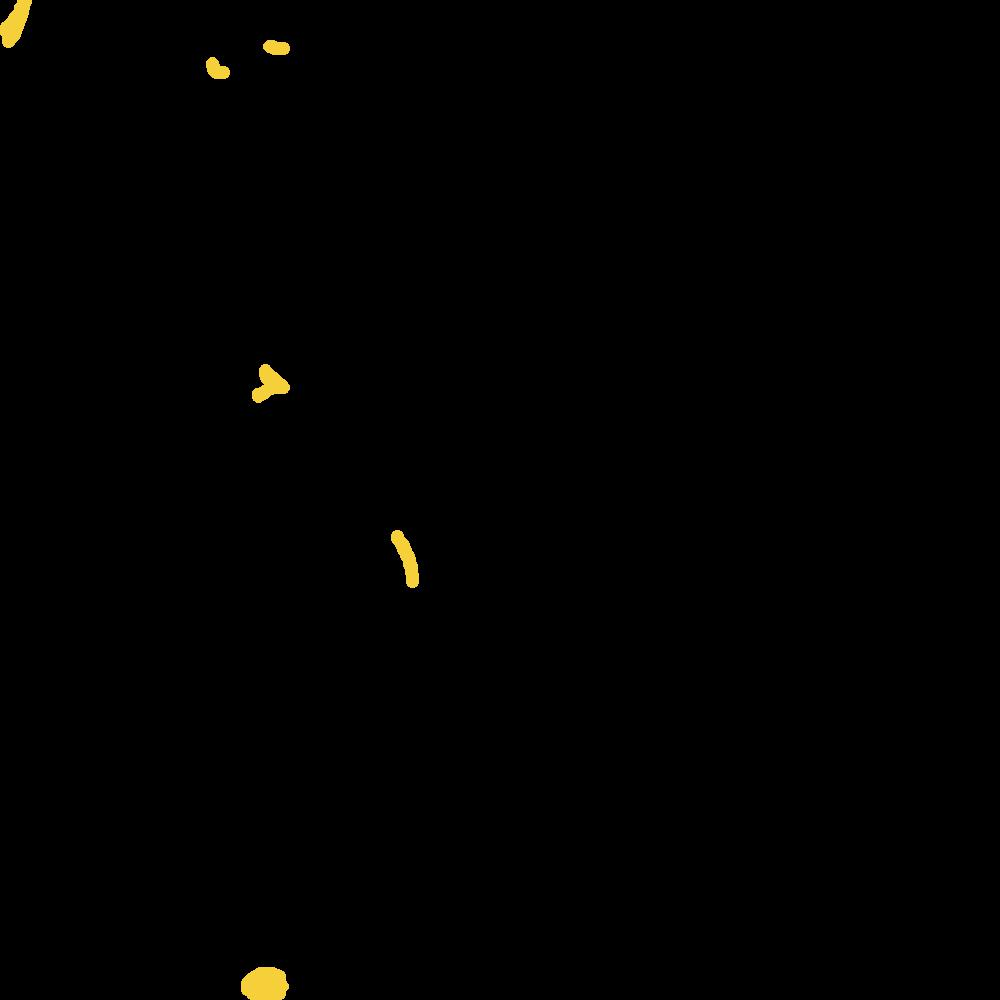legal: (191, 345, 292, 403), (206, 34, 284, 75), (223, 967, 291, 1000), (391, 530, 425, 582), (1, 1, 32, 48)
